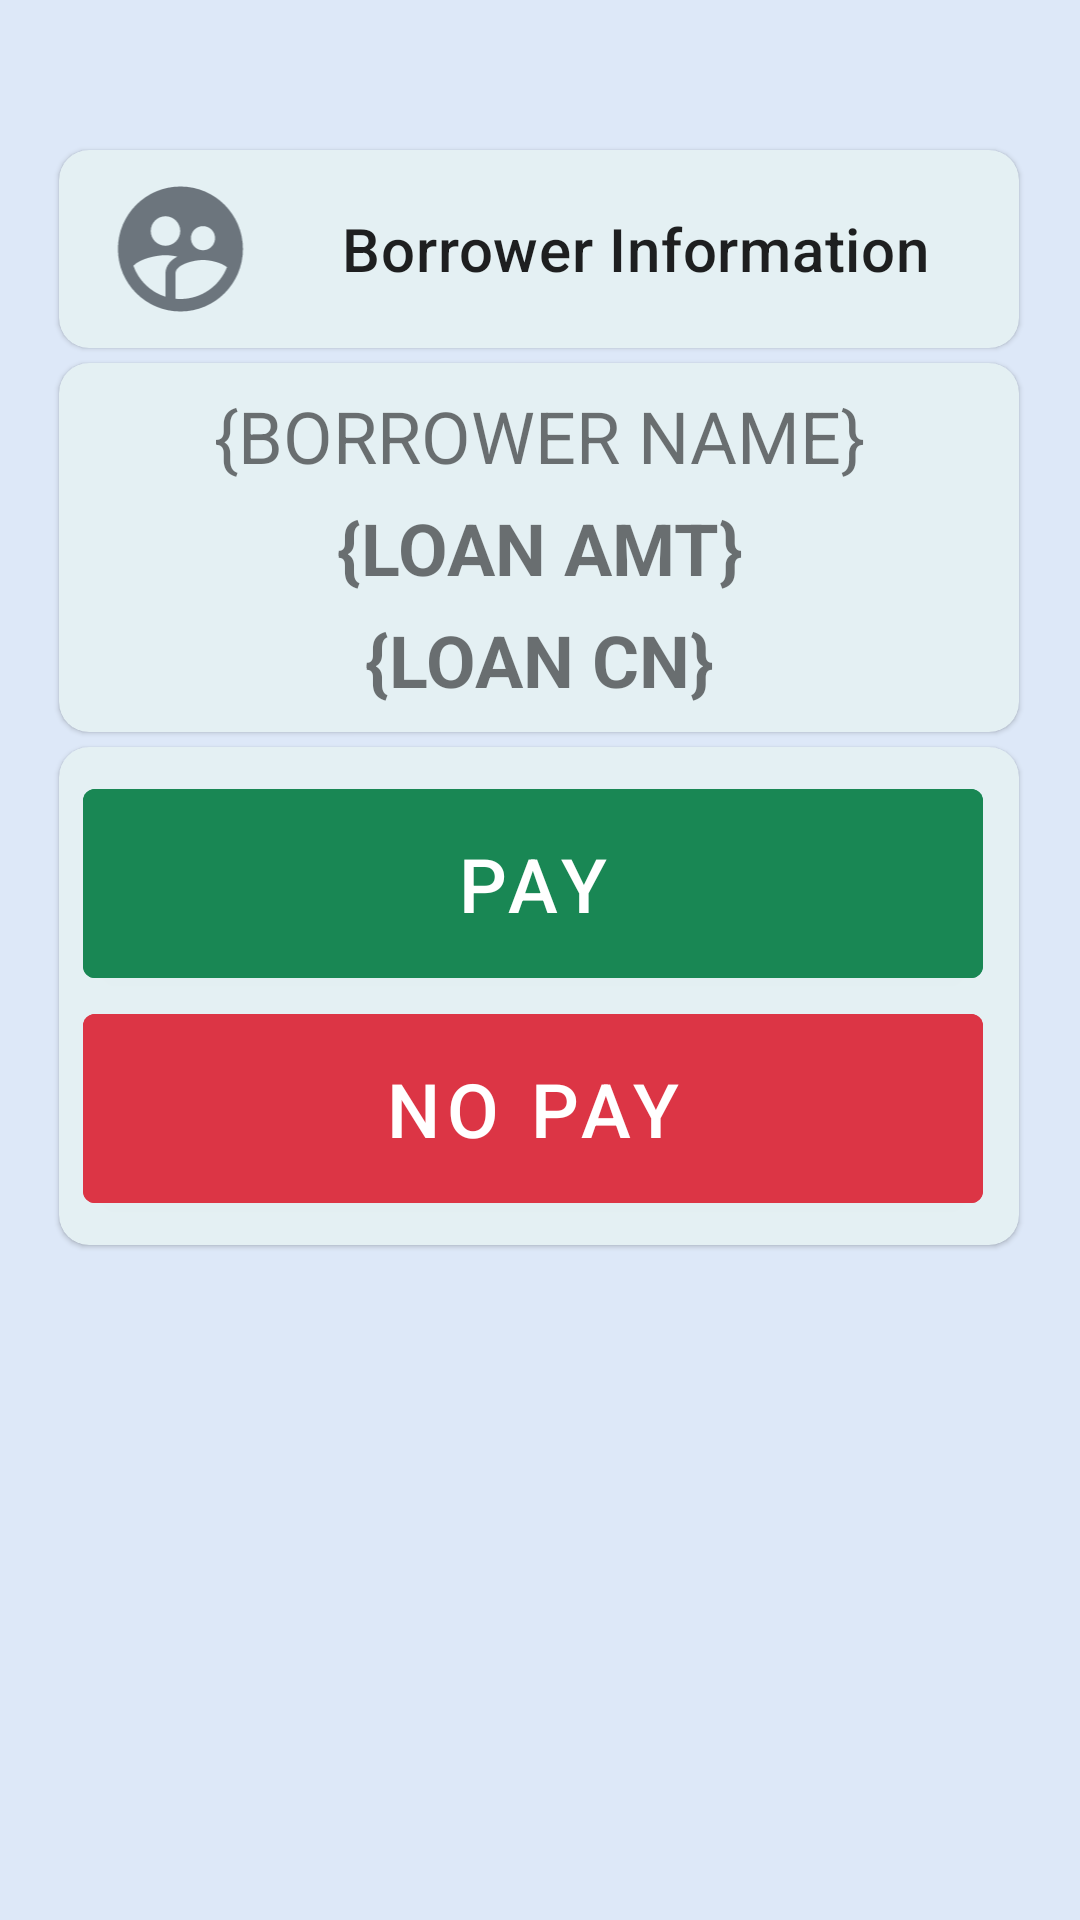

Icons on this 1080×1920 Android screen, each with the point to tap as (x,y):
supervised user circle: (180,249)
